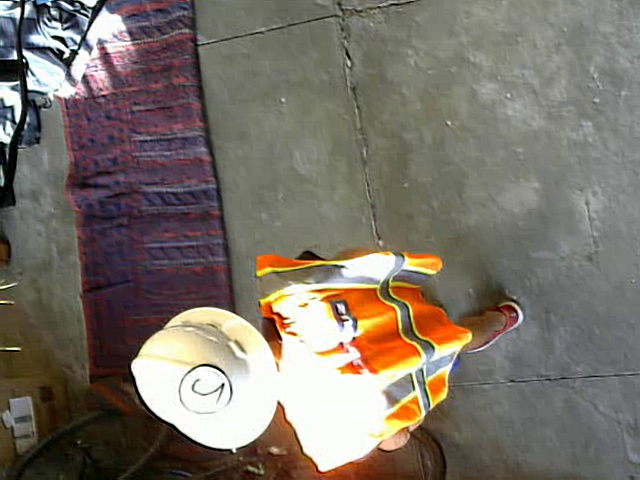two: (173, 363, 232, 418)
